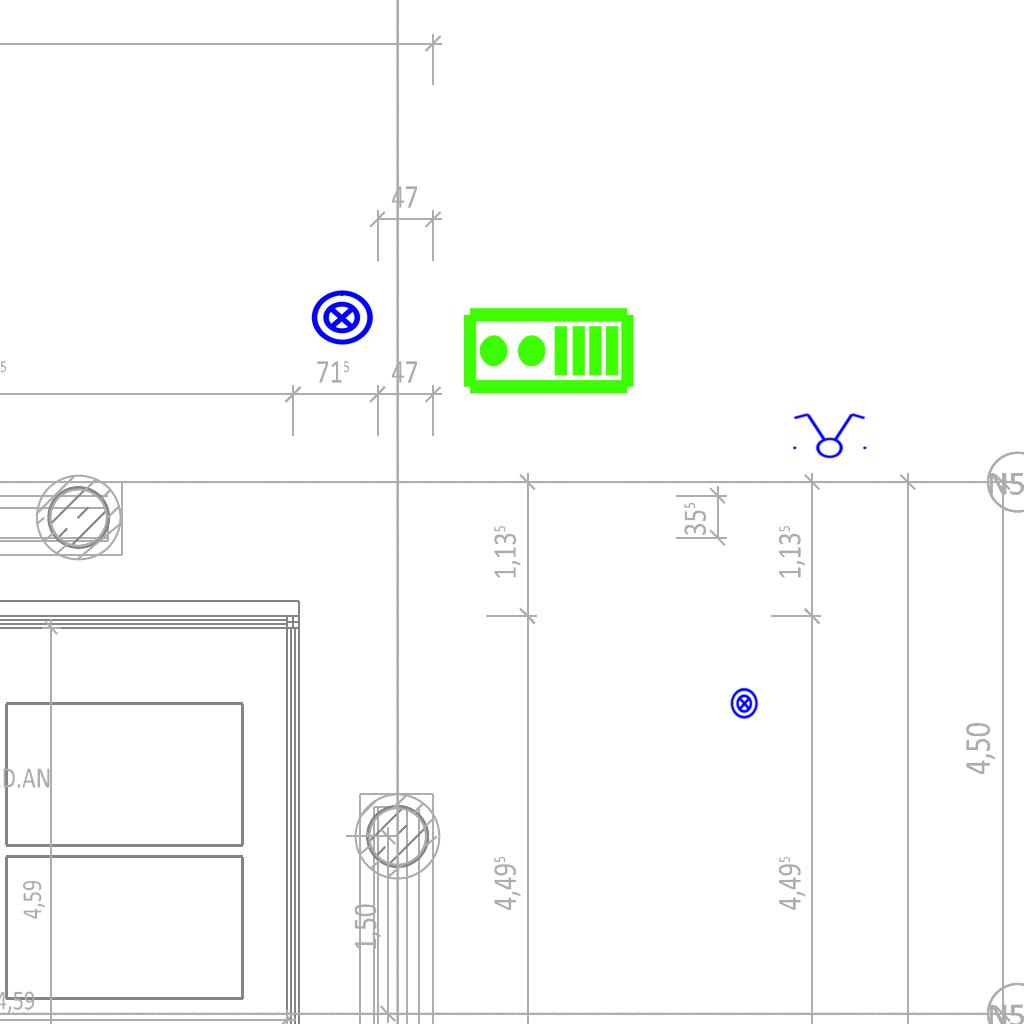Gegensprechanlage_mit_Video: (460, 305, 636, 400)
Serienschalter: (787, 411, 871, 459)
Taster_beleuchtet: (309, 285, 375, 351), (728, 687, 761, 720)
